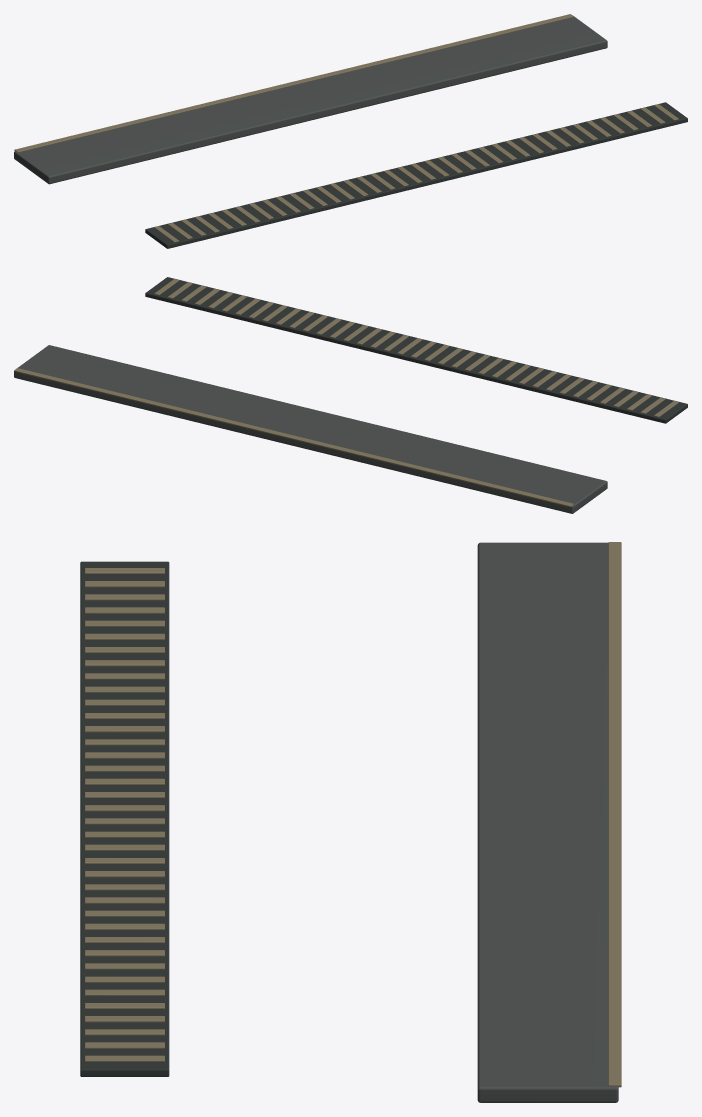
Rendered from entry-threshold.glb.
3 views of the same model, one above another, from view 1: azimuth 30°, elevation 25°; view 2: azimuth 150°, elevation 25°; view 3: azimuth 270°, elevation 25° (orthographic). The views are drawn at different scales.
Visible parts, largest first — view 1: Entry | honed basalt, Entry | blackened steel, Entry | patinated bronze; view 2: Entry | honed basalt, Entry | blackened steel, Entry | patinated bronze; view 3: Entry | honed basalt, Entry | blackened steel, Entry | patinated bronze.
Boxes of the visible parts, x1=… form: Entry | honed basalt: x1=14, y1=16, x2=607, y2=184; Entry | blackened steel: x1=145, y1=102, x2=687, y2=248; Entry | patinated bronze: x1=14, y1=14, x2=678, y2=242; Entry | honed basalt: x1=14, y1=345, x2=607, y2=513; Entry | blackened steel: x1=145, y1=277, x2=687, y2=423; Entry | patinated bronze: x1=14, y1=279, x2=678, y2=507; Entry | honed basalt: x1=477, y1=542, x2=618, y2=1102; Entry | blackened steel: x1=80, y1=561, x2=169, y2=1076; Entry | patinated bronze: x1=84, y1=542, x2=621, y2=1087.
Size of the model in its own units: 1.74 by 0.026 by 0.729.
